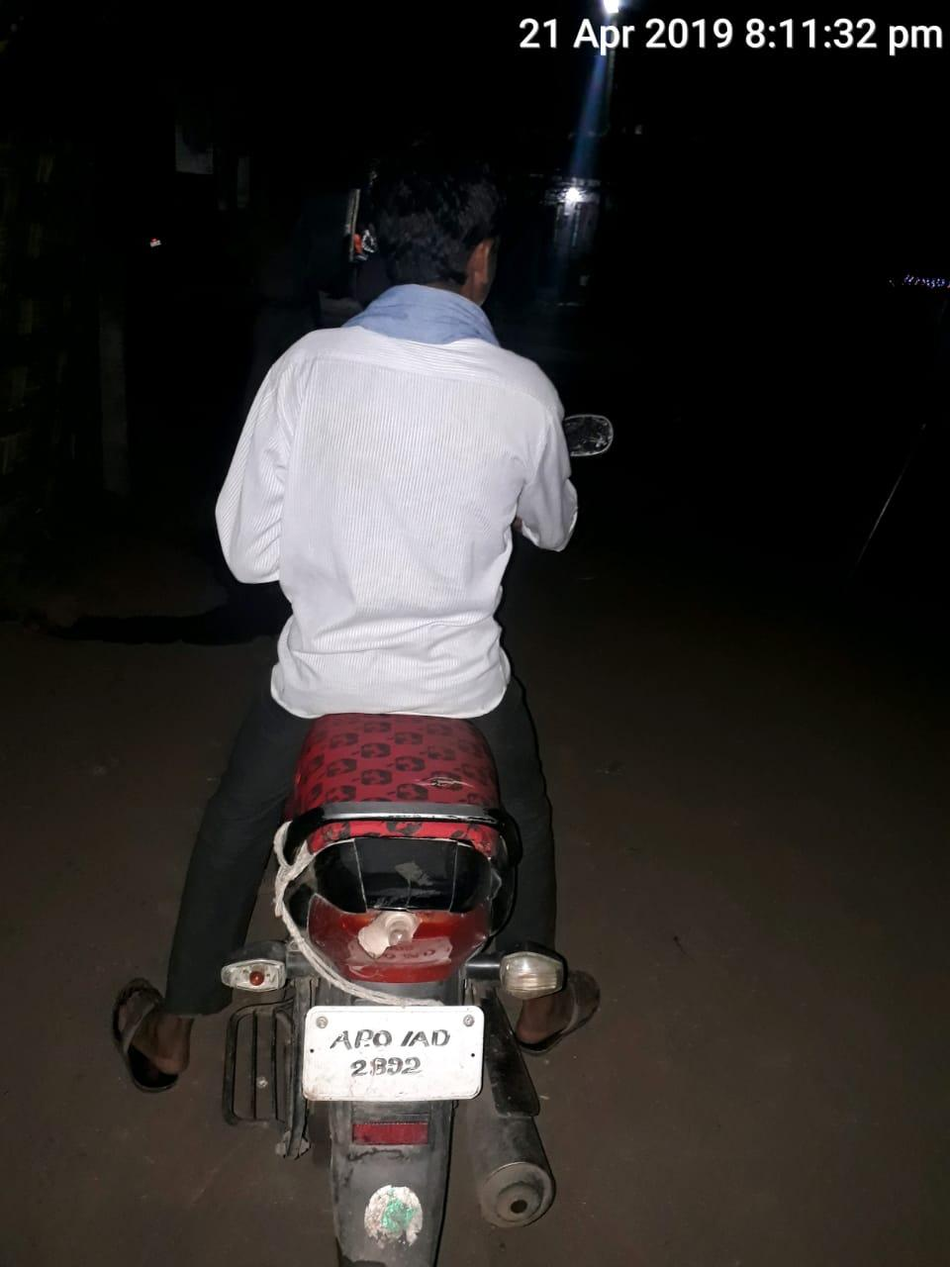plate: (289, 993, 494, 1117)
